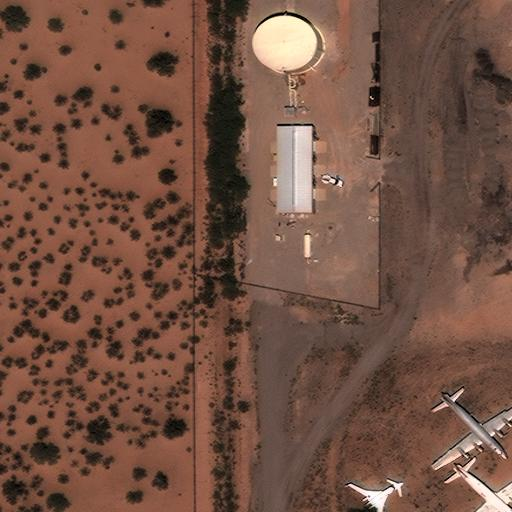Medium Civil Transport: (349, 482, 403, 511)
Military Transport: (435, 392, 511, 470), (452, 462, 511, 511)
